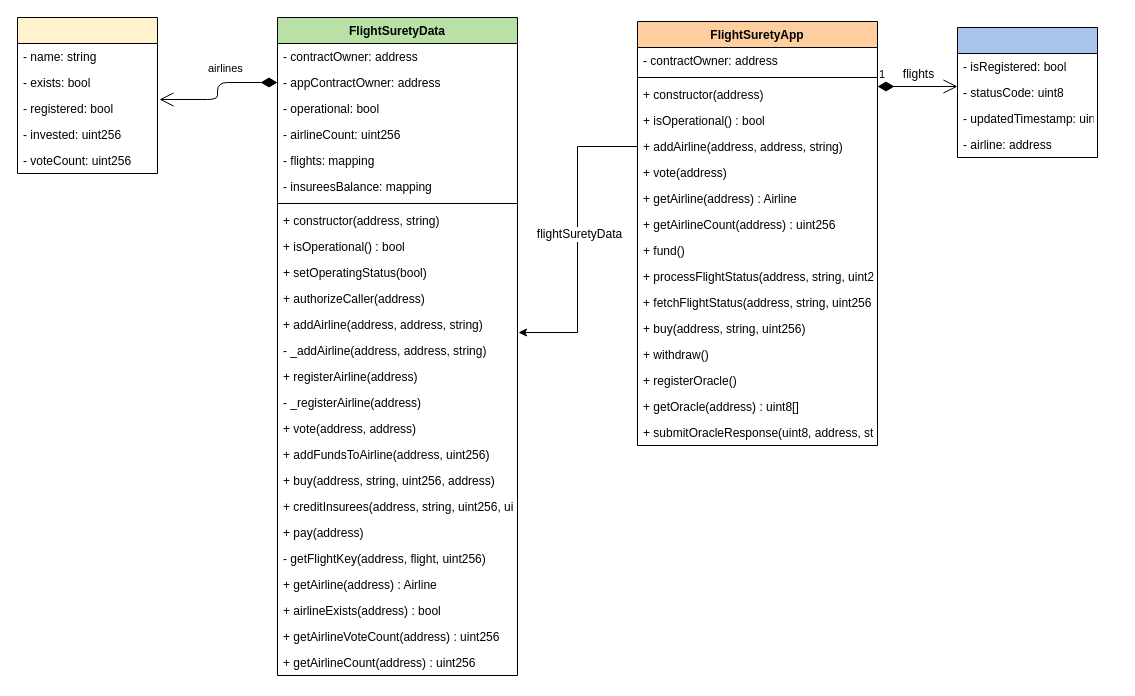
The diagram is 1135 pixels wide and 696 high, and some of its shapes have lost their labels. Here are the shapes that lost their labels. From the top down, the box of each, then its label:
(16, 16, 158, 174): Airline
(956, 26, 1098, 158): Flight
